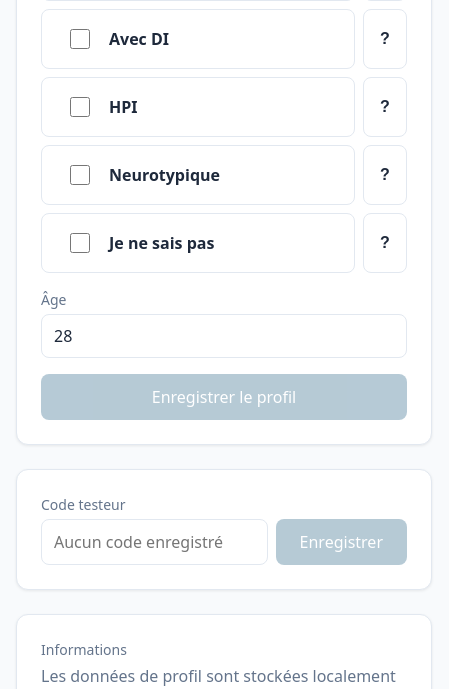
E111Profile › refuse un âge invalide et garde Enregistrer le profil désactivé
(page scrolled)
Replace the text in the field labelled "Âge" with "500" at [224, 336], box [41, 314, 407, 358]
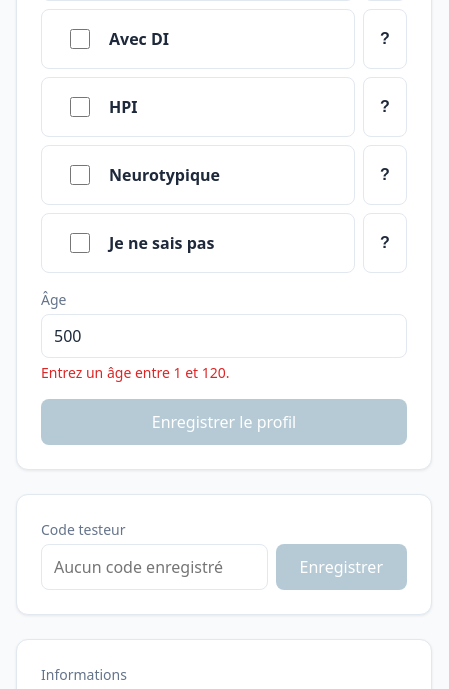
Expected: the button "Enregistrer le profil" is disabled, [41, 399, 407, 445]
Now the message reads "Entrez un âge entre 1 et 120.", box [41, 363, 230, 382]
